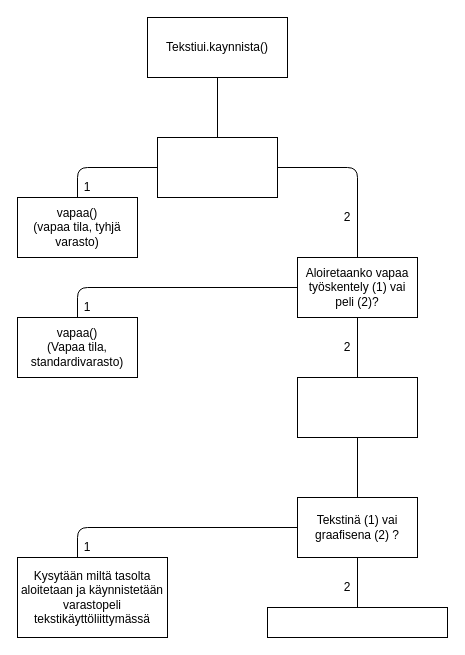
This 465x655 diagram has some shape labels left out. Each missing label, with the box of its shape:
launch(Graafinenui.class): (266, 606, 448, 638)
Luodaanko tyhjä (1) vai standardi- varasto (2)?: (156, 136, 278, 198)
peli(): (296, 376, 418, 438)
